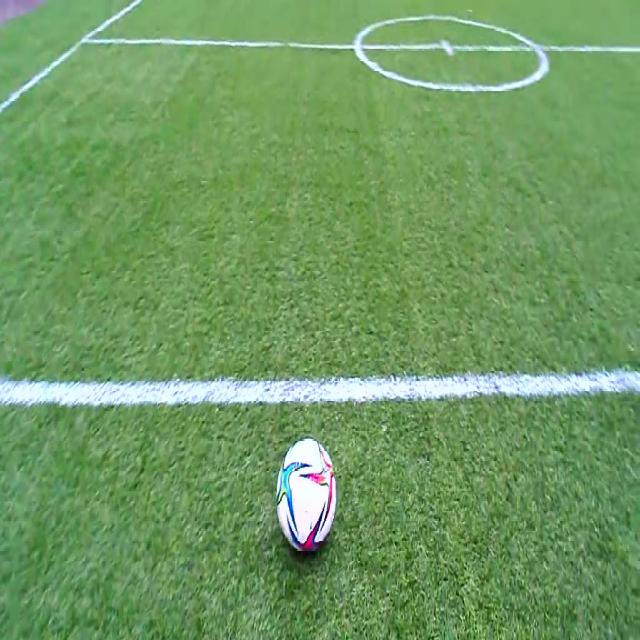ball: (276, 437, 336, 552)
